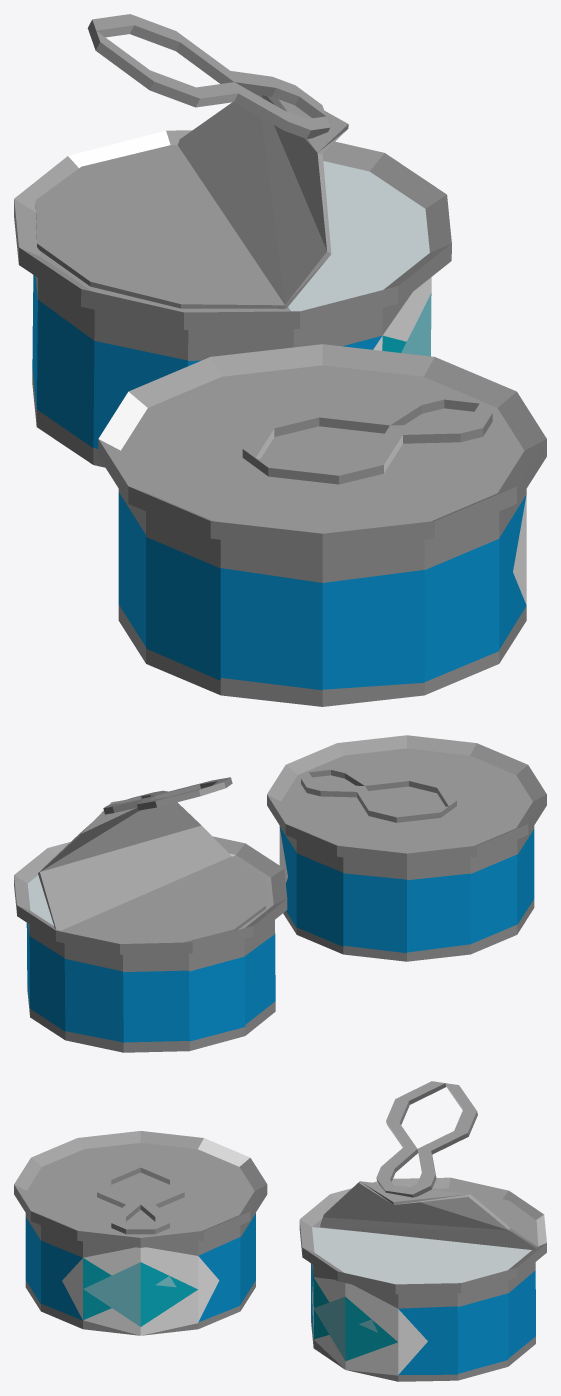
File: atun.glb
3 views of the same model, one above another, from view 1: azimuth 30°, elevation 25°; view 2: azimuth 150°, elevation 25°; view 3: azimuth 270°, elevation 25° (orthographic). The views are drawn at different scales.
Parts seen in each view (by area): view 1: group1343031588, group229140736, group558427750, group1945423103, group1010671563; view 2: group1343031588, group229140736, group558427750, group1945423103, group1010671563; view 3: group1343031588, group229140736, group558427750, group1010671563, group1945423103.
Part boxes in pixels (x1=…): group1343031588: x1=98, y1=344, x2=546, y2=706; group229140736: x1=14, y1=130, x2=451, y2=467; group558427750: x1=35, y1=94, x2=348, y2=308; group1945423103: x1=242, y1=390, x2=492, y2=484; group1010671563: x1=87, y1=14, x2=330, y2=138; group1343031588: x1=267, y1=735, x2=546, y2=961; group229140736: x1=14, y1=836, x2=287, y2=1052; group558427750: x1=38, y1=800, x2=265, y2=943; group1945423103: x1=301, y1=764, x2=456, y2=822; group1010671563: x1=103, y1=777, x2=232, y2=814; group1343031588: x1=14, y1=1131, x2=267, y2=1335; group229140736: x1=299, y1=1177, x2=546, y2=1381; group558427750: x1=320, y1=1181, x2=538, y2=1249; group1010671563: x1=376, y1=1081, x2=477, y2=1197; group1945423103: x1=97, y1=1167, x2=184, y2=1234.
Size of the model in its own units: 0.9708 by 0.6625 by 1.46.
